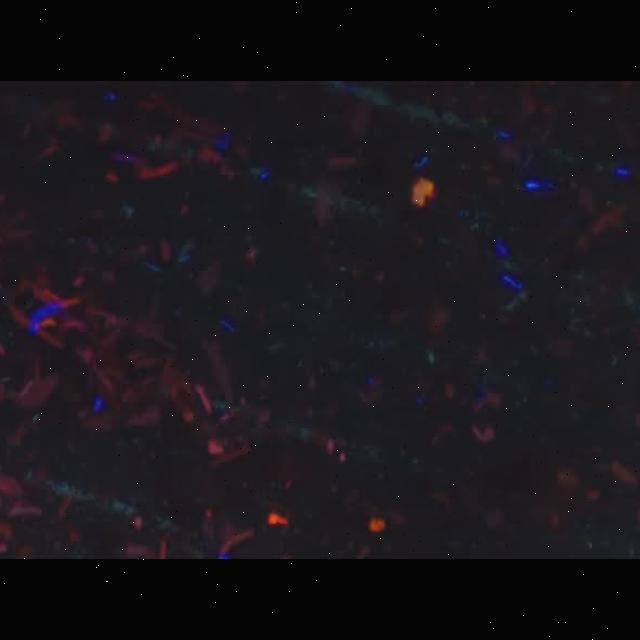Fragment: (411, 177, 434, 207)
